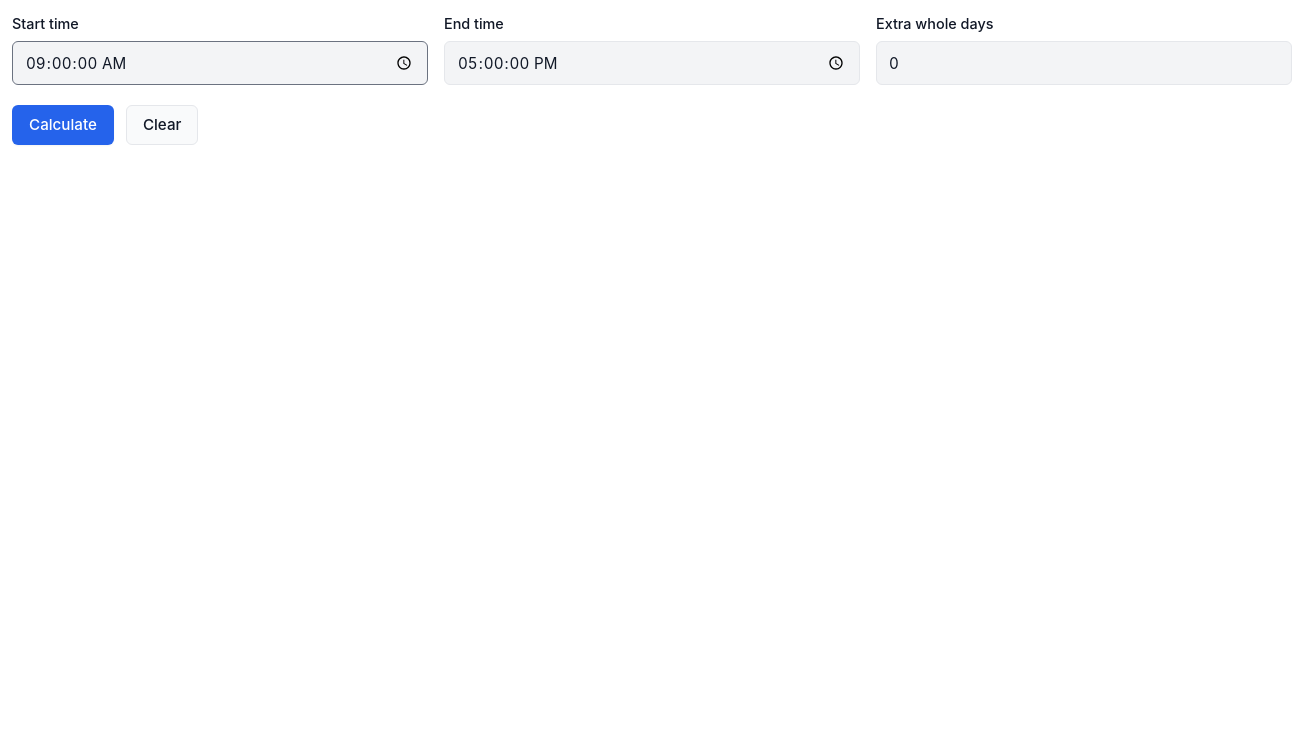
Test case: Time Duration Calculator › crosses midnight: 23:30 to 01:15 is 1 hour 45 minutes
Replace the text in the time field labelled "Start time" with "23:30:00": {"x": 220, "y": 63} [12,41,428,85]
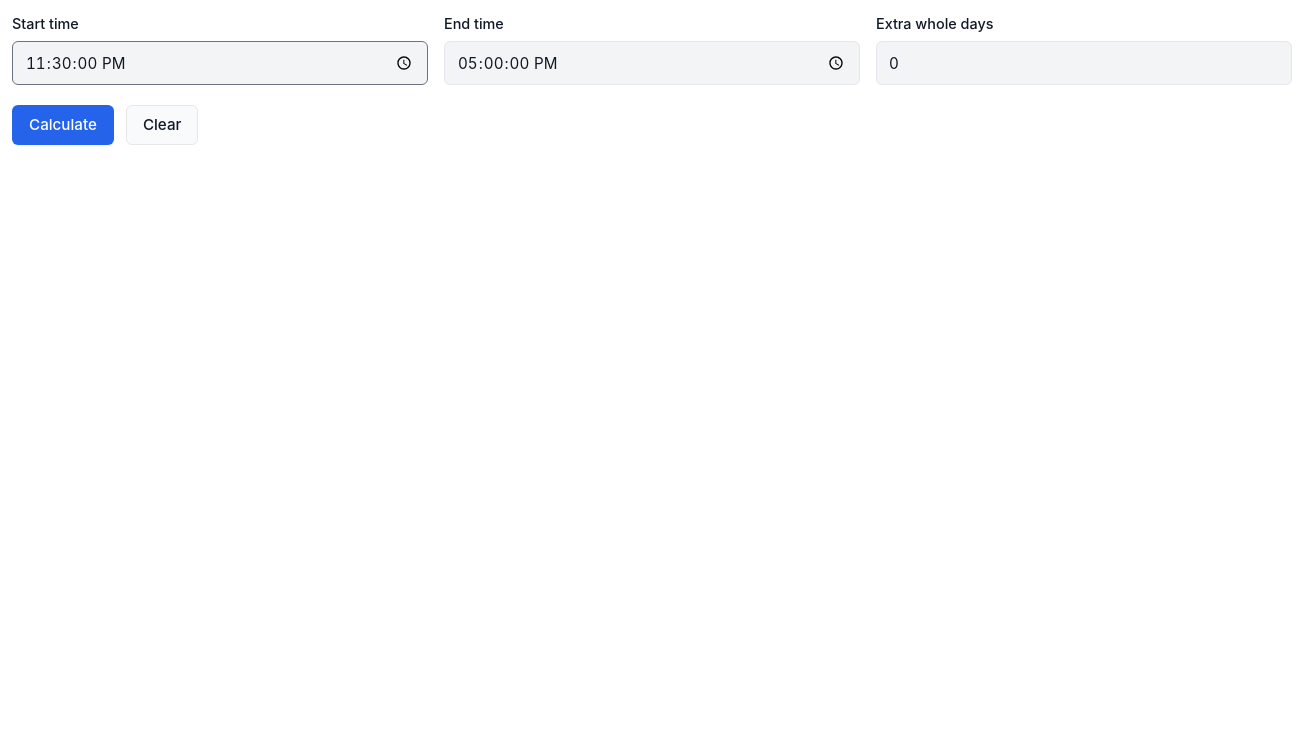
Replace the text in the time field labelled "End time" with "01:15:00": {"x": 652, "y": 63} [444,41,860,85]
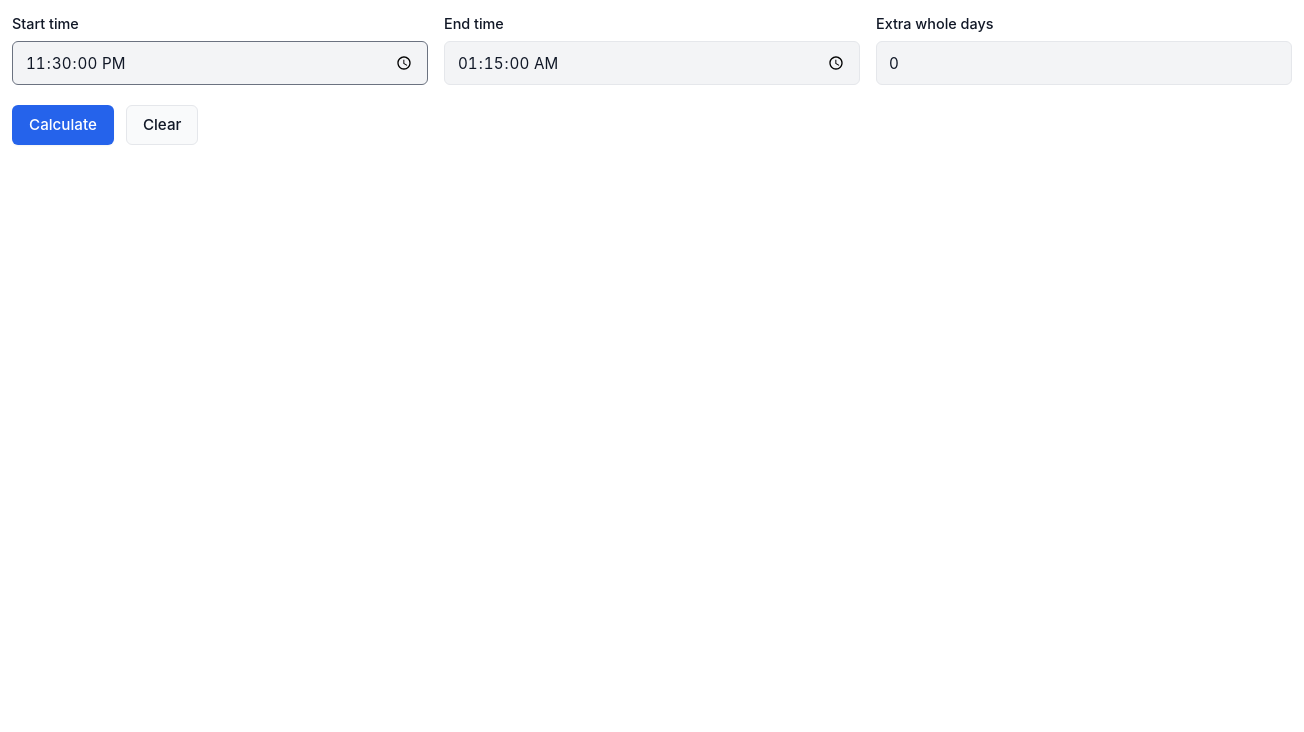
Click the button "Calculate": {"x": 63, "y": 125} [12,105,114,145]
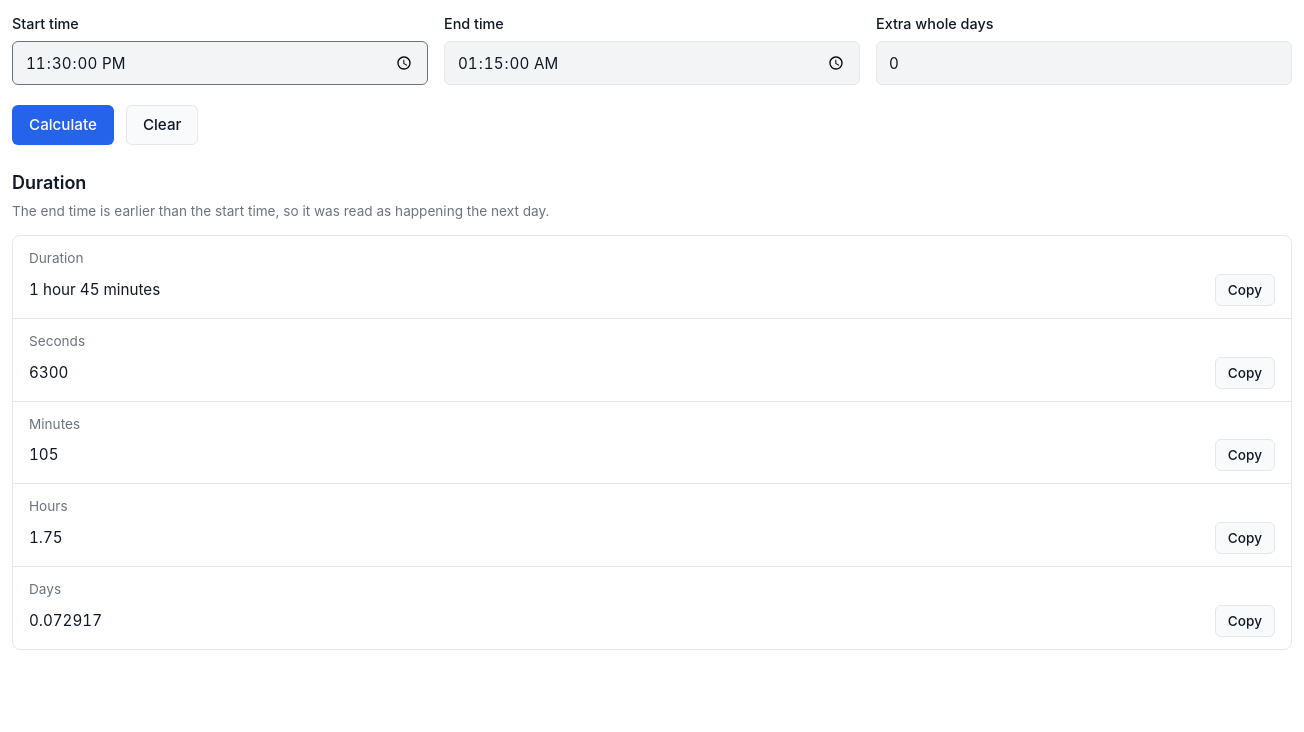
Expected: the text "1 hour 45 minutes" is shown, [29,280,160,299]
Expected: the text "next day" is shown, [12,203,549,219]
